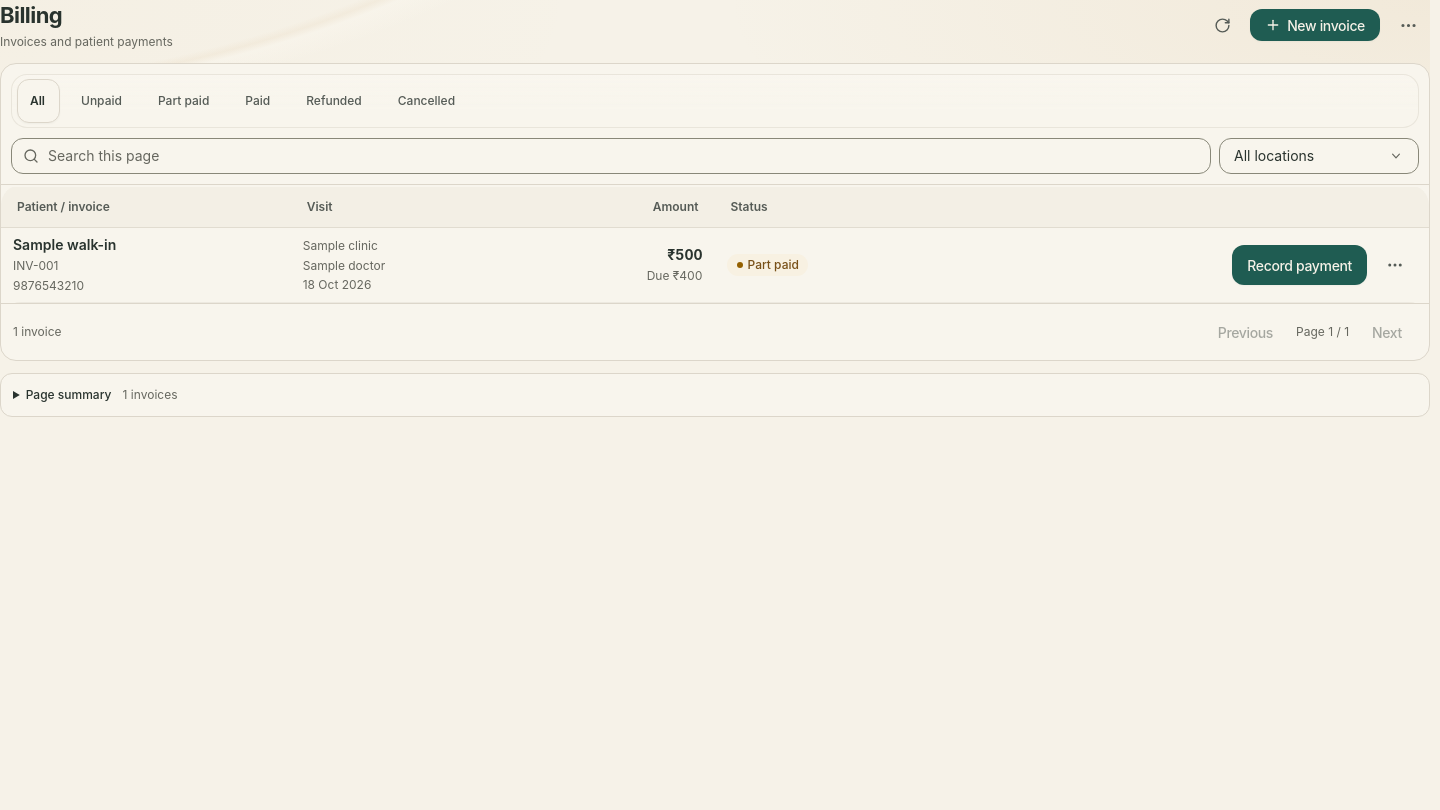
Test: blocks already-paid checkout and exposes a retry for failed charge reads
What coordinates should you click on to do the following:
click the button named "Billing tools"
I would click on:
 (1408, 25)
Its box is [1386, 3, 1430, 47].
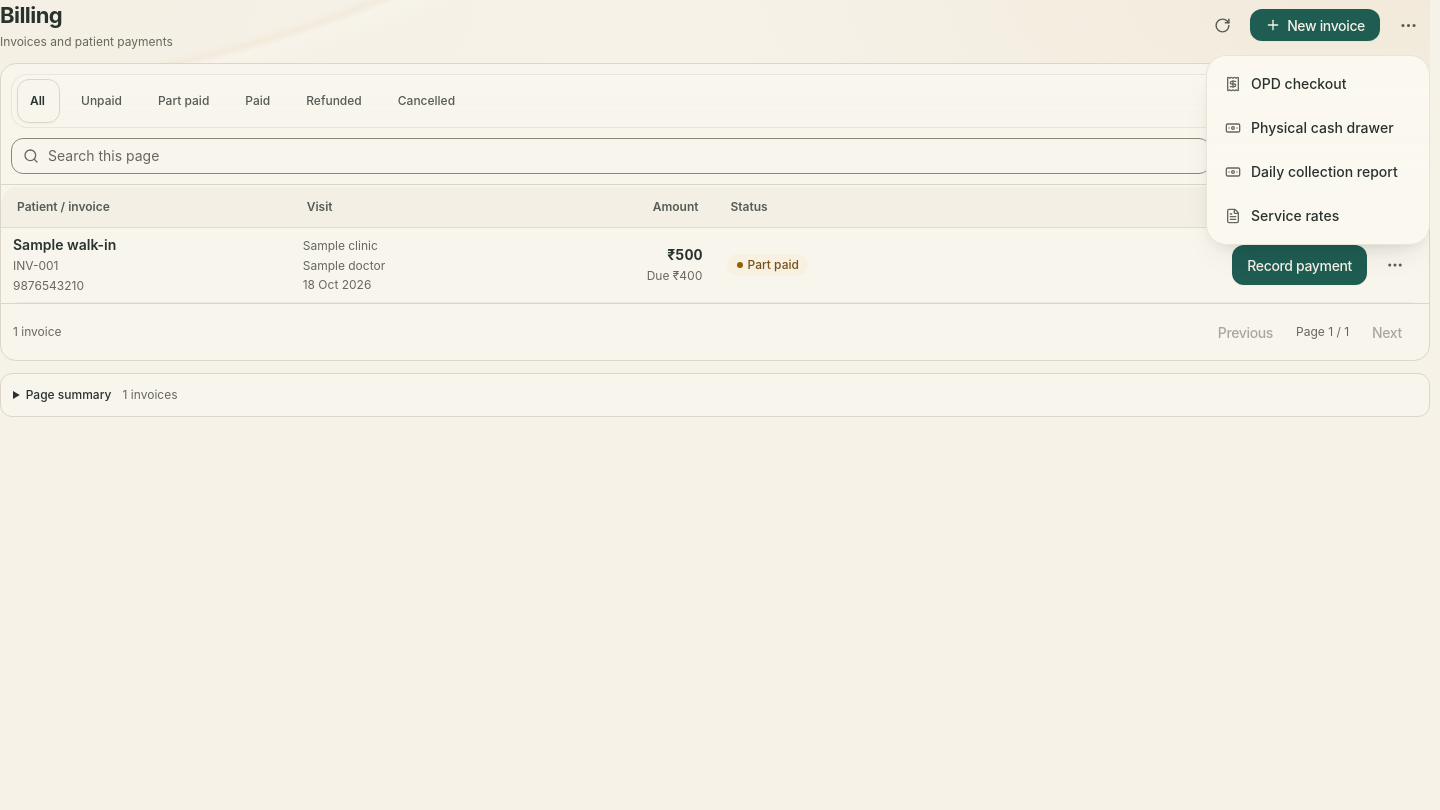
What coordinates should you click on to do the following:
click the menu item "OPD checkout"
I would click on:
 (1318, 84)
Its box is [1213, 62, 1423, 106].
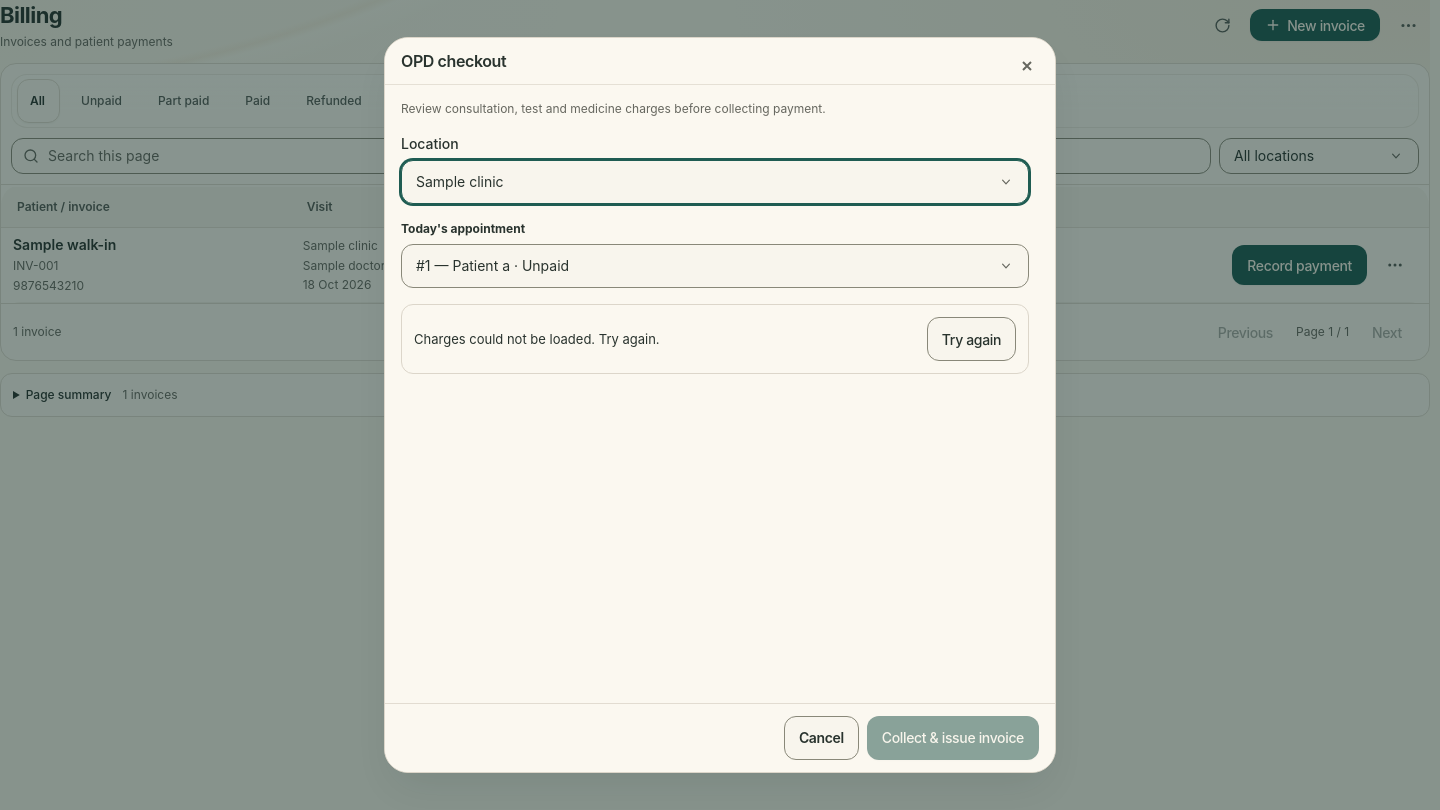
Expected: the text "Charges could not be loaded. Try again." is shown, [414, 331, 660, 347]
Expected: the button "Collect & issue invoice" is disabled, [867, 716, 1039, 760]
What coordinates should you click on to do the following:
click the button "Try again"
I would click on:
 (971, 339)
Its box is [927, 317, 1016, 361].
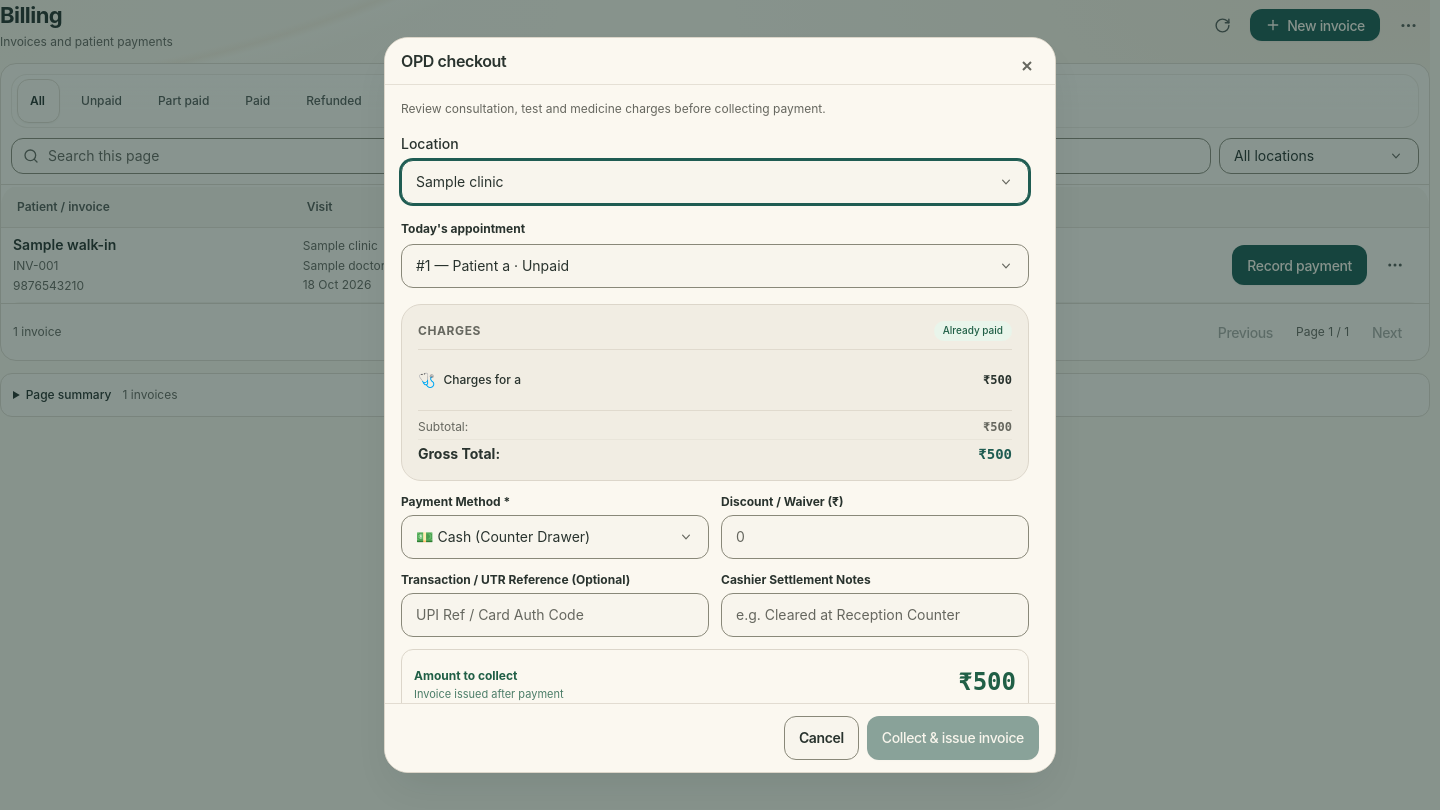
Expected: the button "Collect & issue invoice" is disabled, [867, 716, 1039, 760]
Expected: the text "Already paid" is shown, [934, 321, 1012, 341]
